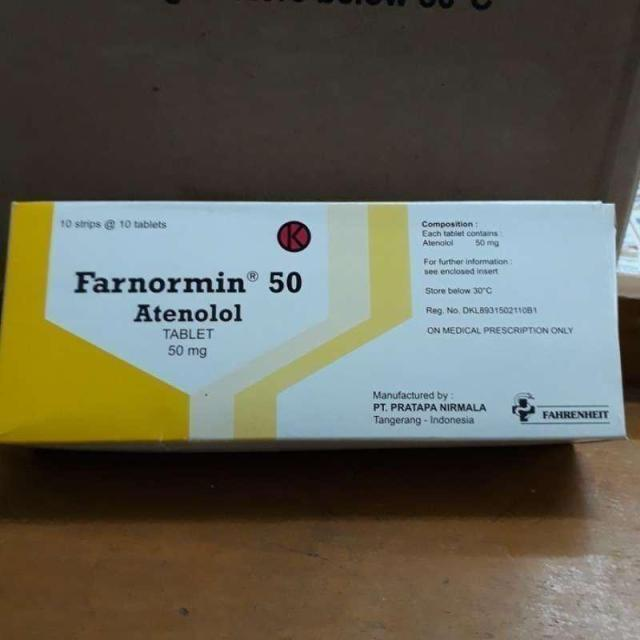drug-name: (70, 270, 306, 294)
